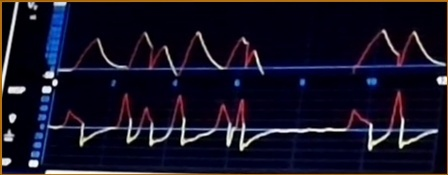Double_Triggering Flow: (95, 90, 420, 154)
Double_Triggering Volume: (67, 23, 445, 75)
